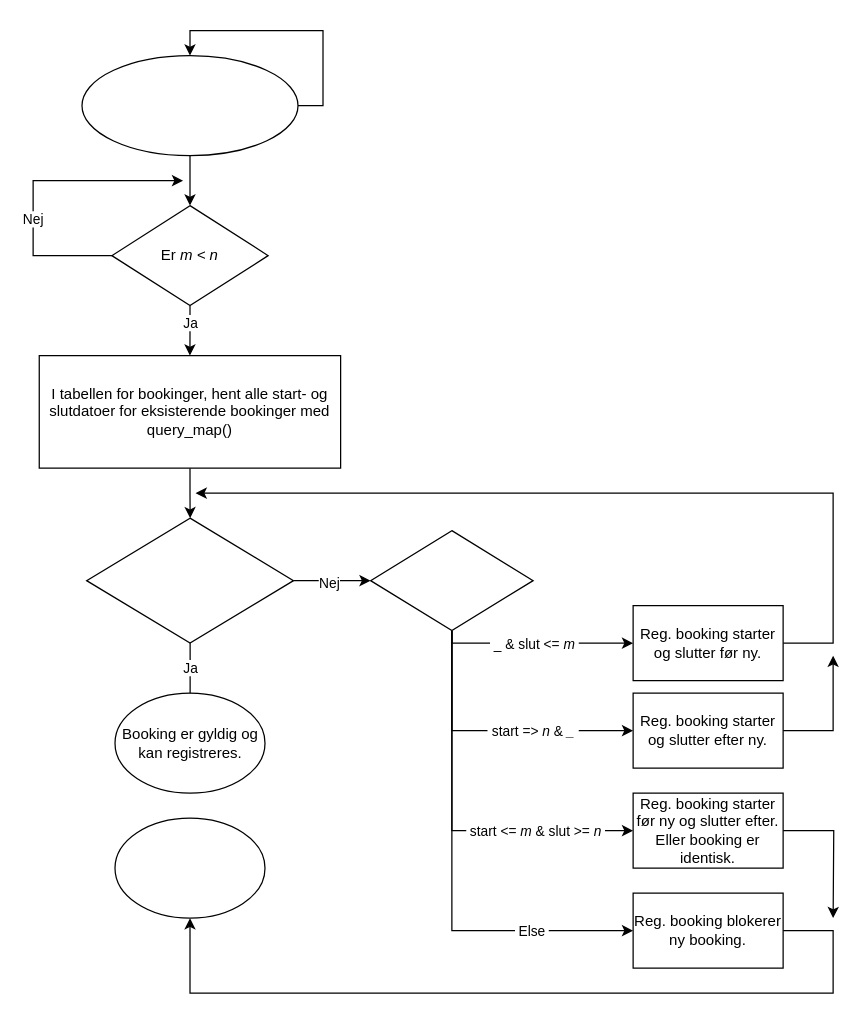
Image size: 865x1025. Some labels were removed from this diagram. The shapes that lost their labels are listed below. From the top down, each one's centre as x and y in pixels, then its label:
At point 189,105: "Lav booking på værelse x , i tidsintervallet m til n".
At point 189,580: "Har du prøvet alle bookingerne? (For loop)".
At point 451,580: "match (start, slut)".
At point 189,867: "Booking kan ikke gennemføres".
